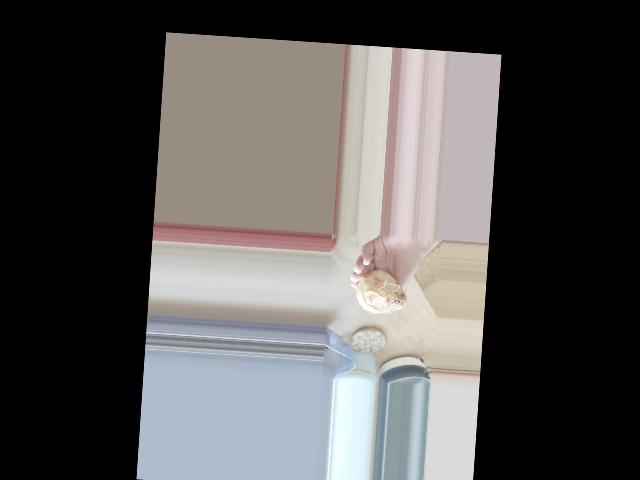onion: (353, 268, 405, 320)
